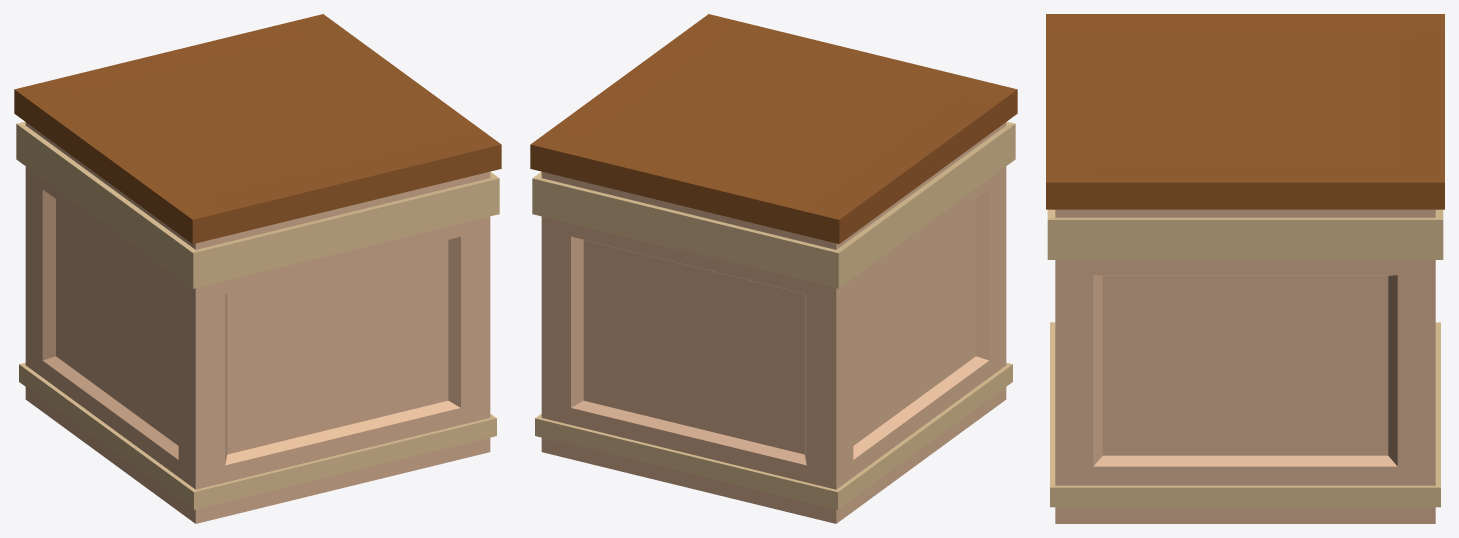
The model's file is countertop.fbx.
The picture shows the model from 3 angles, left to right: view 1: azimuth 30°, elevation 25°; view 2: azimuth 150°, elevation 25°; view 3: azimuth 270°, elevation 25°; orthographic projection. The views are drawn at different scales.
Parts seen in each view (by area): view 1: Cube; view 2: Cube; view 3: Cube.
Boxes of the visible parts, x1,y1,x2,y2 form: Cube: [14, 14, 501, 523]; Cube: [530, 14, 1017, 523]; Cube: [1046, 14, 1444, 523].
Size of the model in its own units: 210 by 200 by 210.
